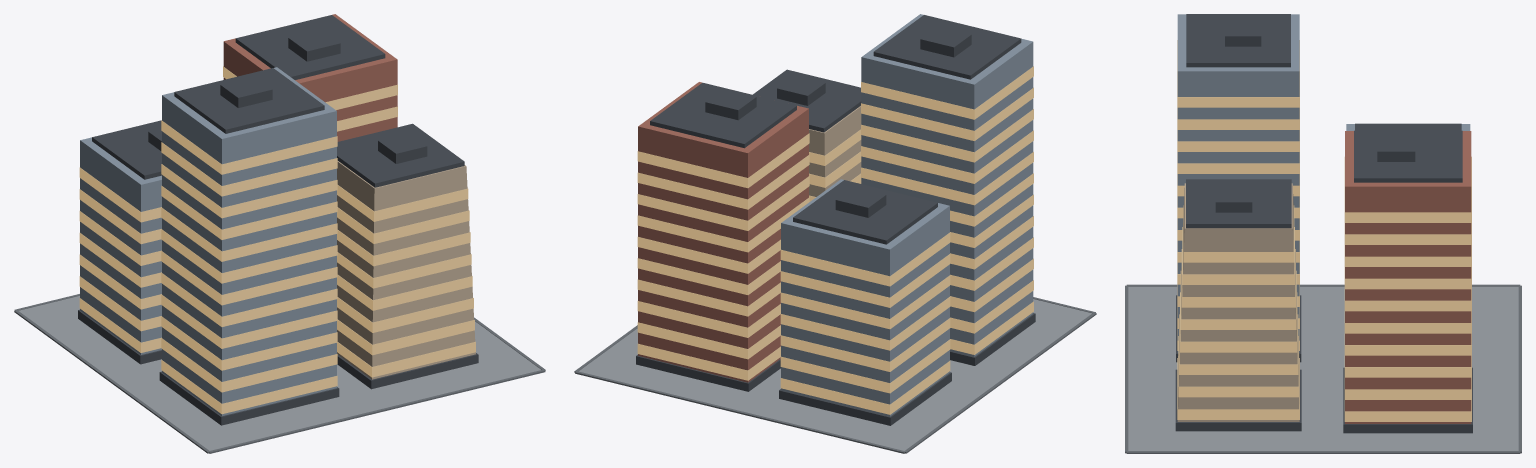
Rendered from block_downtown.glb.
The picture shows the model from 3 angles, left to right: view 1: azimuth 30°, elevation 25°; view 2: azimuth 150°, elevation 25°; view 3: azimuth 270°, elevation 25°; orthographic projection. The views are drawn at different scales.
Parts seen in each view (by area): view 1: BlockDowntown; view 2: BlockDowntown; view 3: BlockDowntown.
Part boxes in pixels (x1,y1,x2,y2): BlockDowntown: (14,14,545,453); BlockDowntown: (574,14,1096,453); BlockDowntown: (1125,14,1521,453).
Size of the model in its own units: 58.5 by 49.82 by 58.5.
